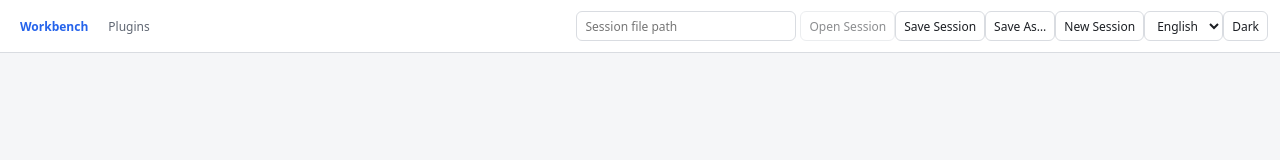
Test: TopBar (ipc-ui.md §4.1) › shows a missing-files badge after opening a session with missing entries
Type "C:\\sessions\\missing.absession" into the field labelled "Session file path" at (686, 26), box [576,11,796,41]
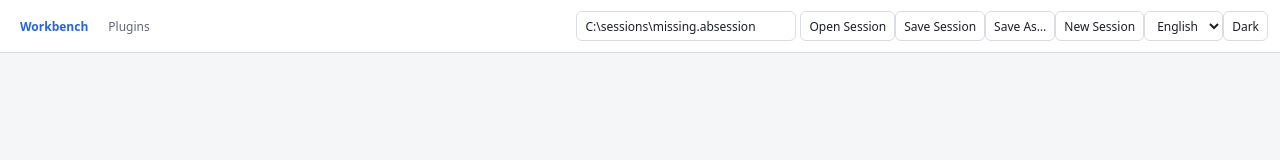
Click the button "Open Session" at (848, 26), box [800,11,895,41]
Wait 500 ms
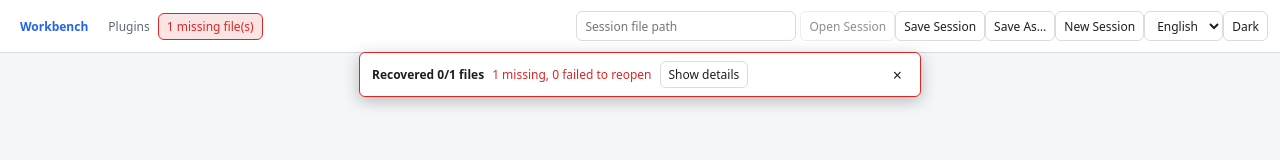
Expected: the message with test id "missing-badge" reads "1 missing file(s)", [167,18,254,34]
